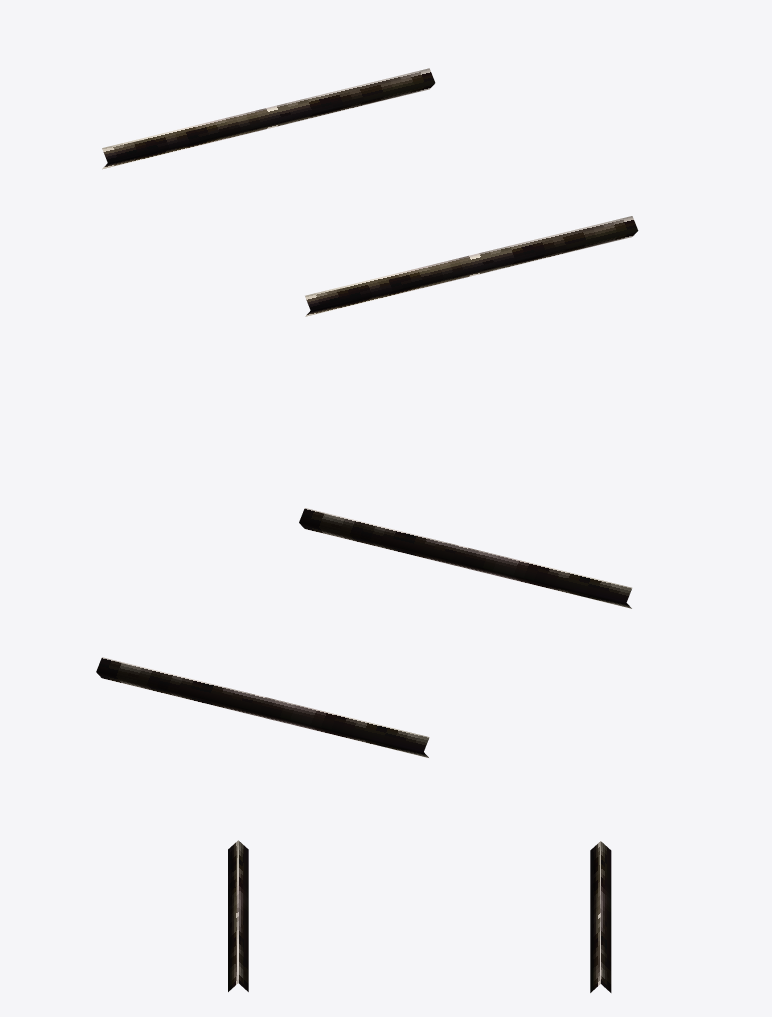
Rendered from SteelWall03.glb.
The picture shows the model from 3 angles, top to bottom: view 1: azimuth 30°, elevation 25°; view 2: azimuth 150°, elevation 25°; view 3: azimuth 270°, elevation 25°; orthographic projection. The views are drawn at different scales.
Visible parts, largest first — view 1: model_SteelWall03; view 2: model_SteelWall03; view 3: model_SteelWall03.
Boxes of the visible parts, box(x1,y1,x2,y2) form: model_SteelWall03: box(102, 68, 638, 316); model_SteelWall03: box(96, 508, 632, 757); model_SteelWall03: box(228, 840, 611, 992).
Bounding box in the file's own units: 1 × 0.0644 × 2.2.
Materials: 2 (2 with a texture image).
